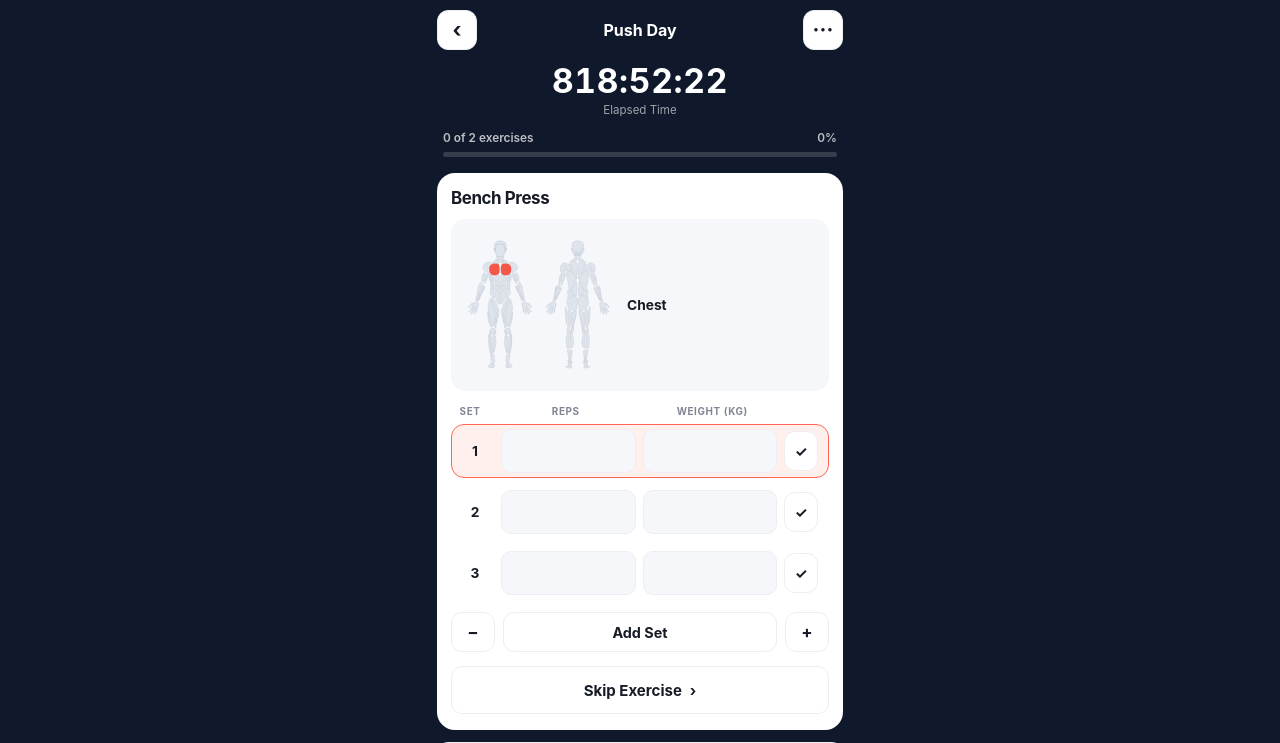
WorkoutRunnerScreen — running a session › offers to skip an exercise with nothing filled in, and saves nothing
The width and height of the screenshot is (1280, 743).
Click the button "Skip Exercise ›" at (640, 690), box [451, 666, 829, 714]
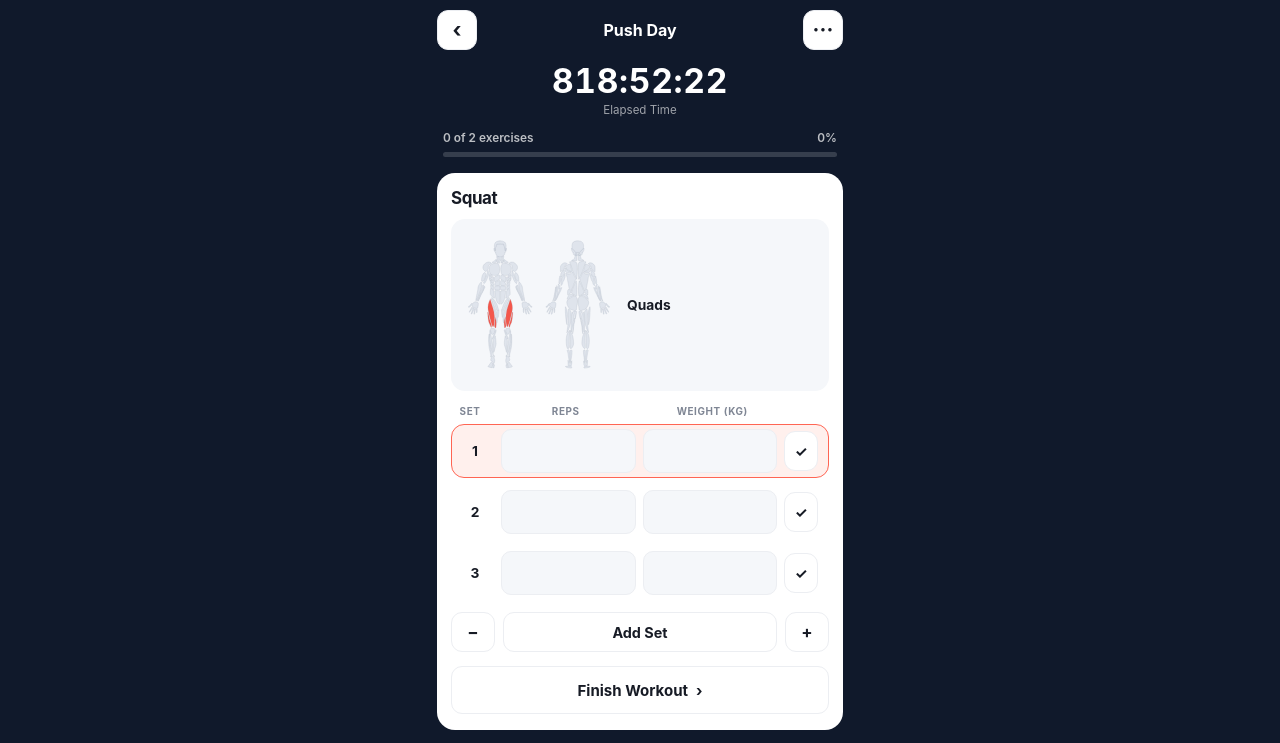
Check: the heading "Squat" is shown, box [451, 188, 497, 208]
